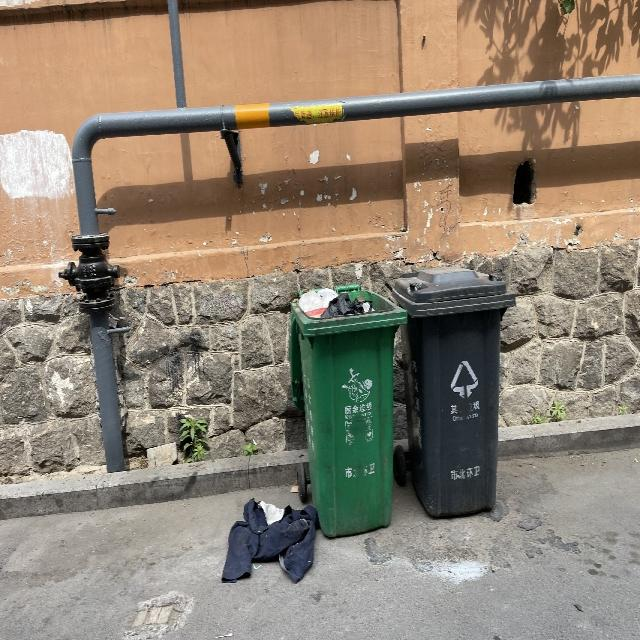garbage: (220, 496, 318, 584)
garbage_bin: (391, 265, 515, 519)
overflow: (288, 283, 408, 538)
